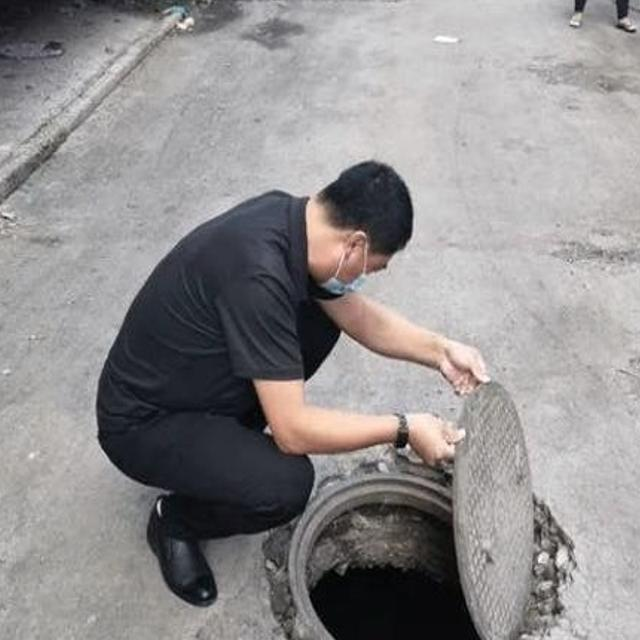circle: (205, 404, 601, 640)
